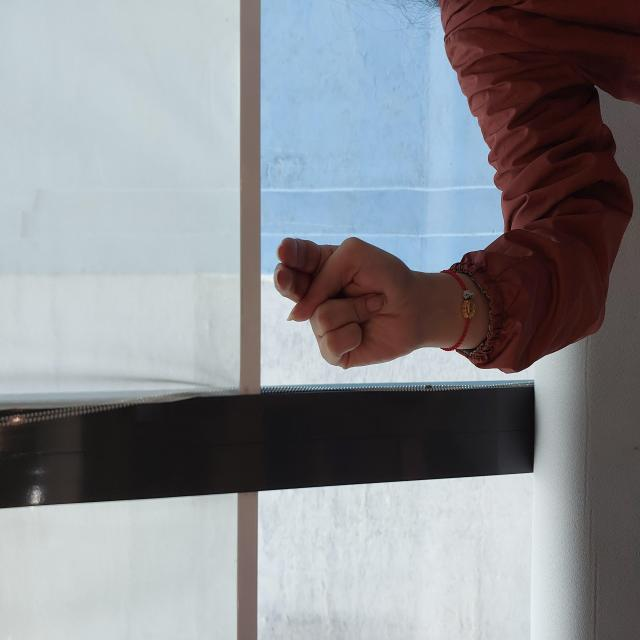N: (271, 272, 407, 418)
